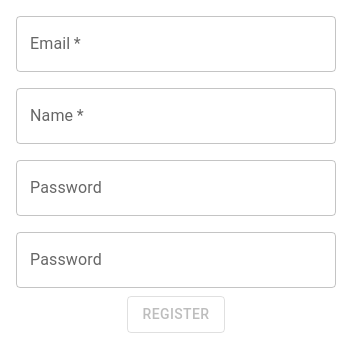
RegForm › Behaviour of registration button
Type "123456" into the 2nd password field labelled "Password" at (176, 260), box [16,232,336,288]
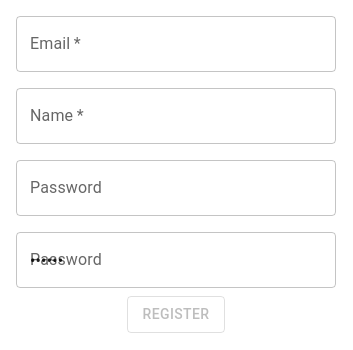
Type "Roland" into the field labelled "Name *" at (176, 116), box [16,88,336,144]
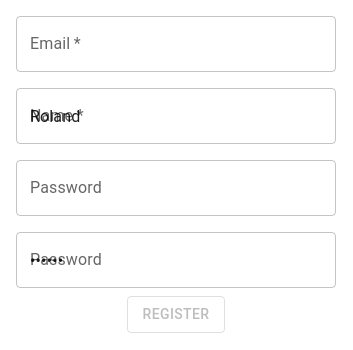
Type "123456" into the 1st password field labelled "Password" at (176, 188), box [16,160,336,216]
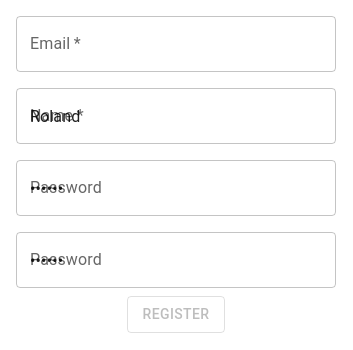
Type "hi@1234" into the field labelled "Email *" at (176, 44), box [16,16,336,72]
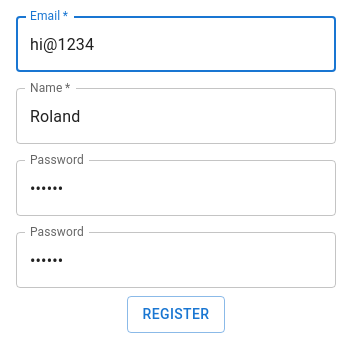
expect the button "Register" is enabled: met, box [126,296,226,332]
